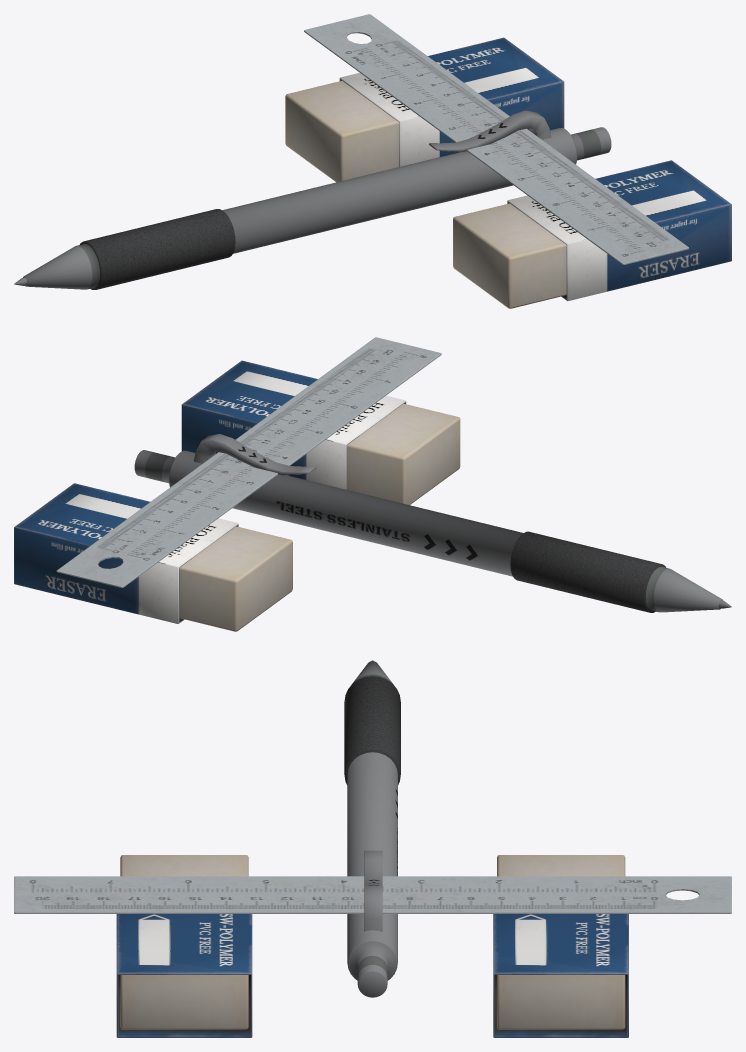
The model's file is stationery-plane-light.glb.
3 renders of one model, top to bottom at view 1: azimuth 30°, elevation 25°; view 2: azimuth 150°, elevation 25°; view 3: azimuth 270°, elevation 25°, orthographic. The views are drawn at different scales.
Parts seen in each view (by area): view 1: Eraser3 (×2), Pen1, Ruler2; view 2: Eraser3 (×2), Pen1, Ruler2; view 3: Eraser3 (×2), Ruler2, Pen1.
Boxes of the visible parts, x1=… form: Eraser3 (×2): x1=285, y1=37, x2=731, y2=308; Pen1: x1=14, y1=110, x2=611, y2=289; Ruler2: x1=304, y1=14, x2=688, y2=264; Eraser3 (×2): x1=14, y1=360, x2=460, y2=631; Pen1: x1=134, y1=434, x2=731, y2=612; Ruler2: x1=56, y1=337, x2=441, y2=587; Eraser3 (×2): x1=116, y1=855, x2=628, y2=1037; Ruler2: x1=14, y1=876, x2=731, y2=913; Pen1: x1=344, y1=660, x2=400, y2=997.
Bounding box in the file's own units: 1.08 × 0.1476 × 0.9914.
Materials: 3 (3 with a texture image).
